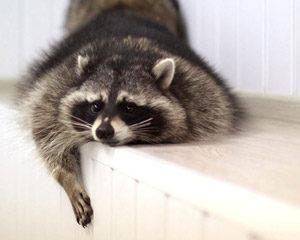raccoon: (15, 0, 245, 228)
